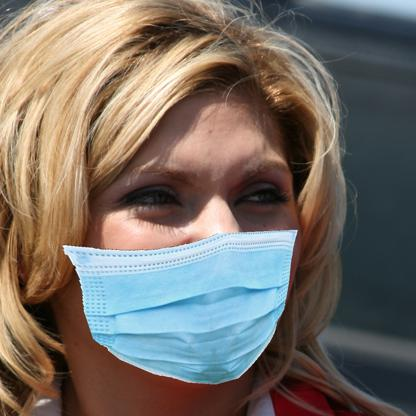mask: (60, 234, 299, 382)
